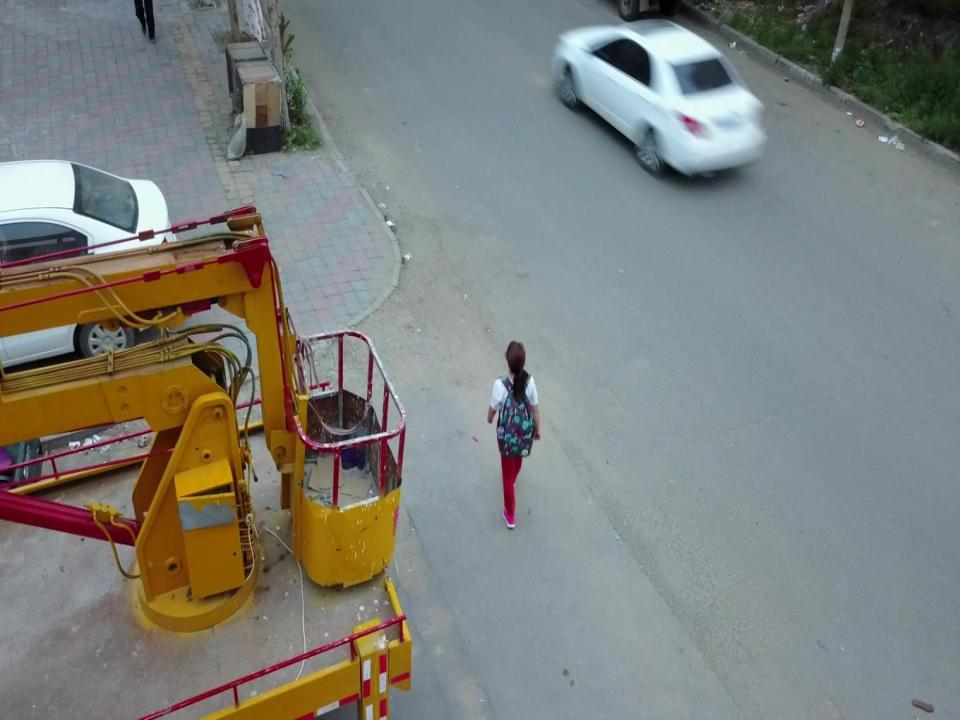car: (0, 163, 177, 371), (550, 21, 766, 177)
truck: (0, 205, 409, 720)
